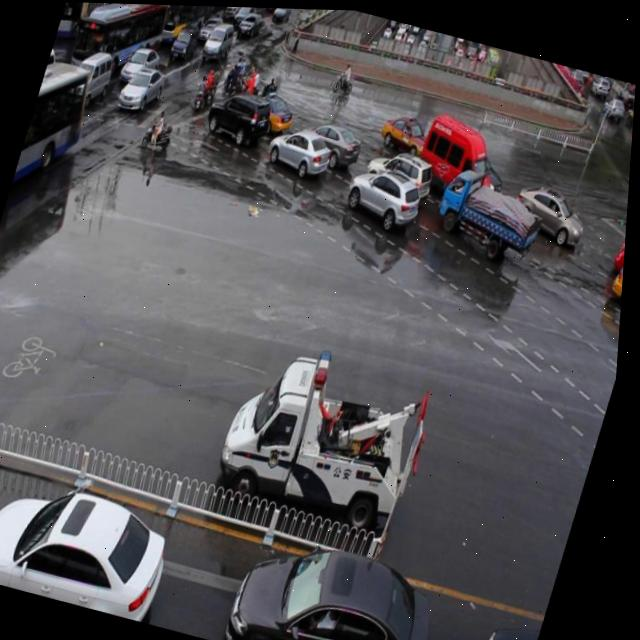bus: (213, 327, 440, 534), (429, 159, 550, 263)
car: (506, 172, 595, 248), (341, 159, 429, 234), (428, 129, 513, 204), (359, 138, 440, 206), (287, 108, 368, 172), (263, 117, 338, 179), (376, 106, 441, 160), (241, 87, 298, 136), (607, 250, 628, 310), (611, 226, 629, 278)
truck: (413, 106, 508, 197), (203, 81, 275, 147)
